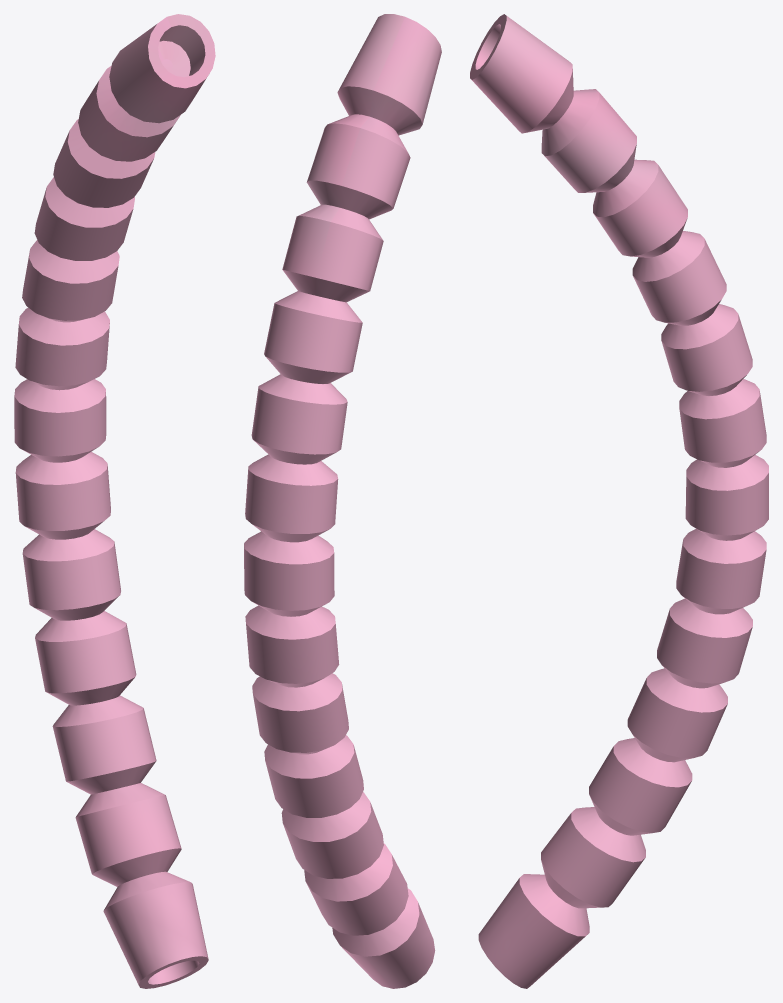
Rendered from G_EscombroTuvo.FBX.
3 views of the same model, side by side, from view 1: azimuth 30°, elevation 25°; view 2: azimuth 150°, elevation 25°; view 3: azimuth 270°, elevation 25° (orthographic).
Parts seen in each view (by area): view 1: G_Tuvo; view 2: G_Tuvo; view 3: G_Tuvo.
Boxes of the visible parts, left/top/right/bottom form: G_Tuvo: left=14, top=14, right=215, bottom=988; G_Tuvo: left=244, top=14, right=441, bottom=988; G_Tuvo: left=470, top=14, right=768, bottom=988.
Bounding box in the file's own units: 0.034 × 0.3872 × 0.1086.
